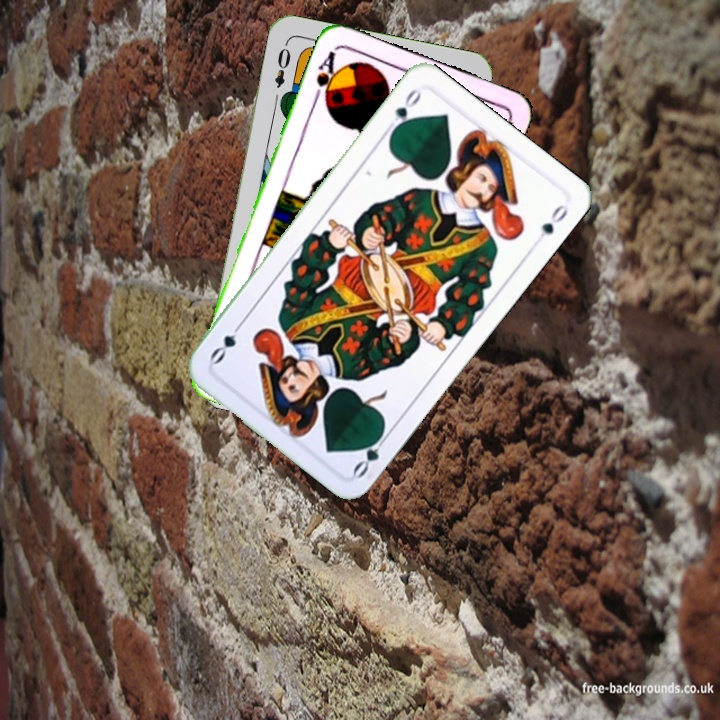EO: (270, 44, 294, 91)
GO: (349, 425, 393, 480), (387, 84, 424, 137)
SA: (310, 47, 343, 106)
